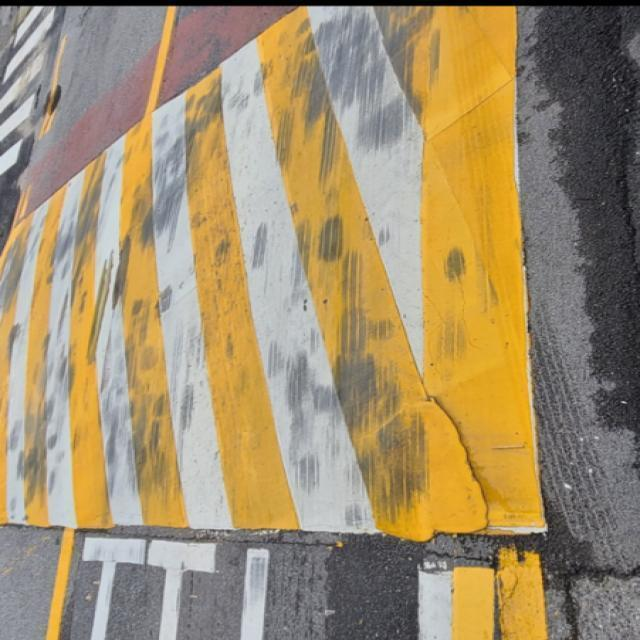speedbreaker: (0, 0, 564, 569)
